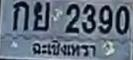0: (115, 5, 129, 34)
2: (65, 2, 79, 32)
3: (81, 3, 95, 33)
9: (98, 4, 111, 33)
A01: (12, 0, 28, 30)
A34: (32, 1, 49, 30)
CCO: (30, 38, 98, 60)
